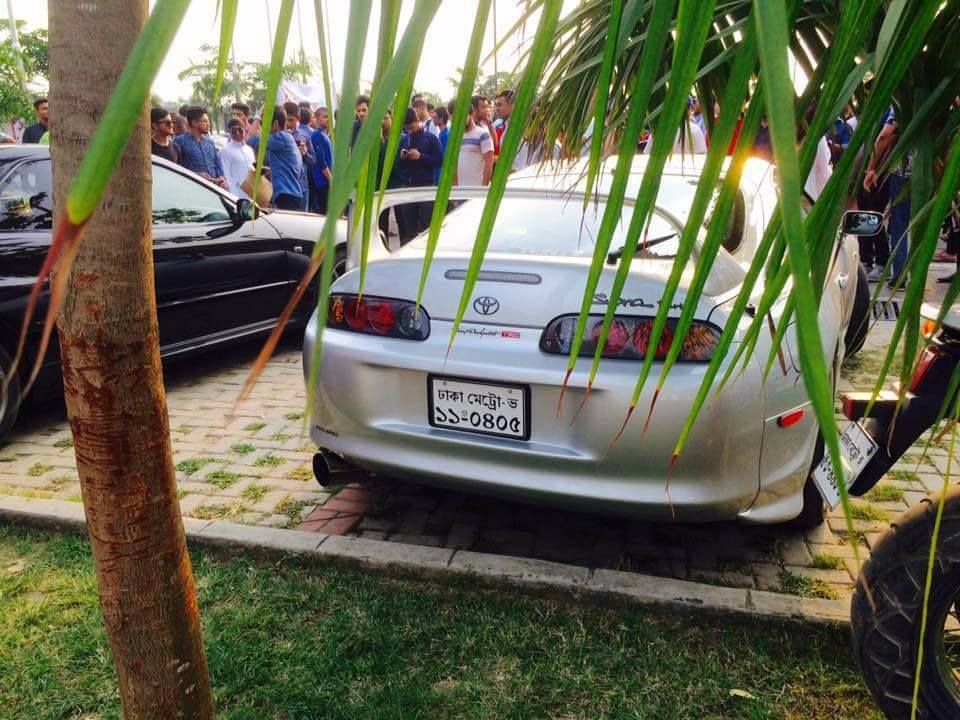registration_plate: (431, 376, 526, 439)
